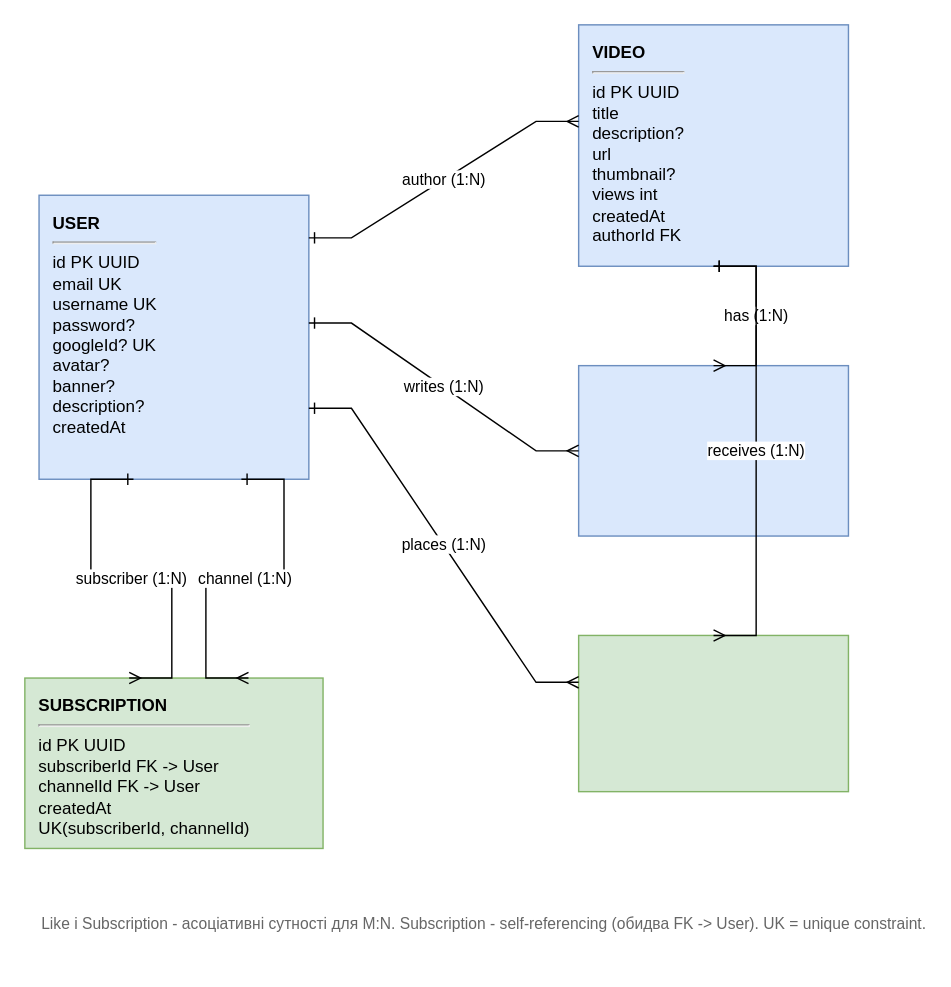
Image size: 951x987. Some labels were removed from this diagram. Each missing label, with the box of its shape:
COMMENT id PK UUID text createdAt userId FK videoId FK: (577, 364, 848, 536)
LIKE id PK UUID userId FK videoId FK createdAt UK(userId, videoId): (577, 634, 848, 792)
